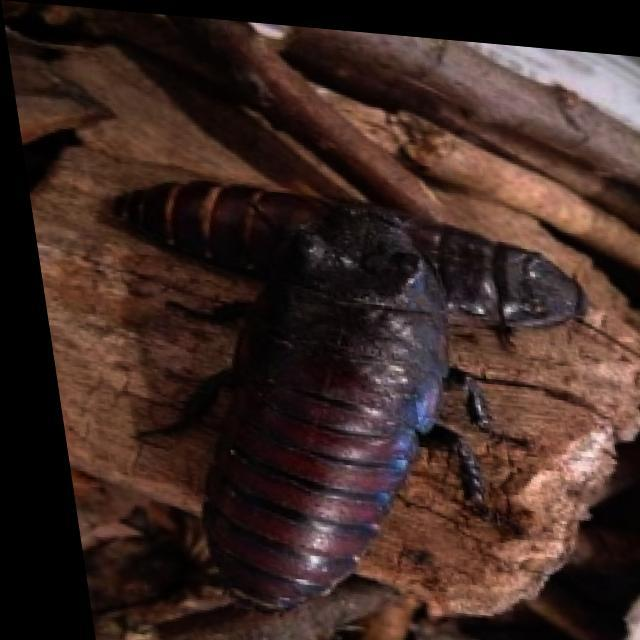cockroach: (110, 171, 591, 614)
